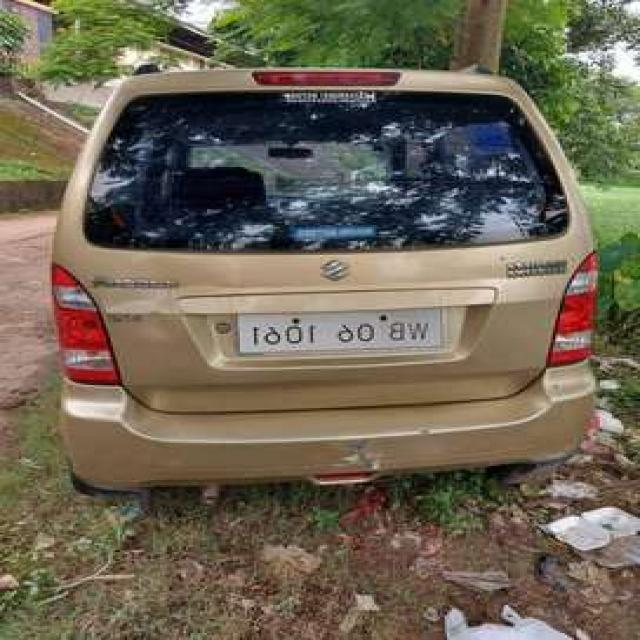license_plate: (222, 302, 449, 364)
